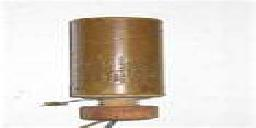Electrolytic-Capacitor: (62, 12, 171, 128)
